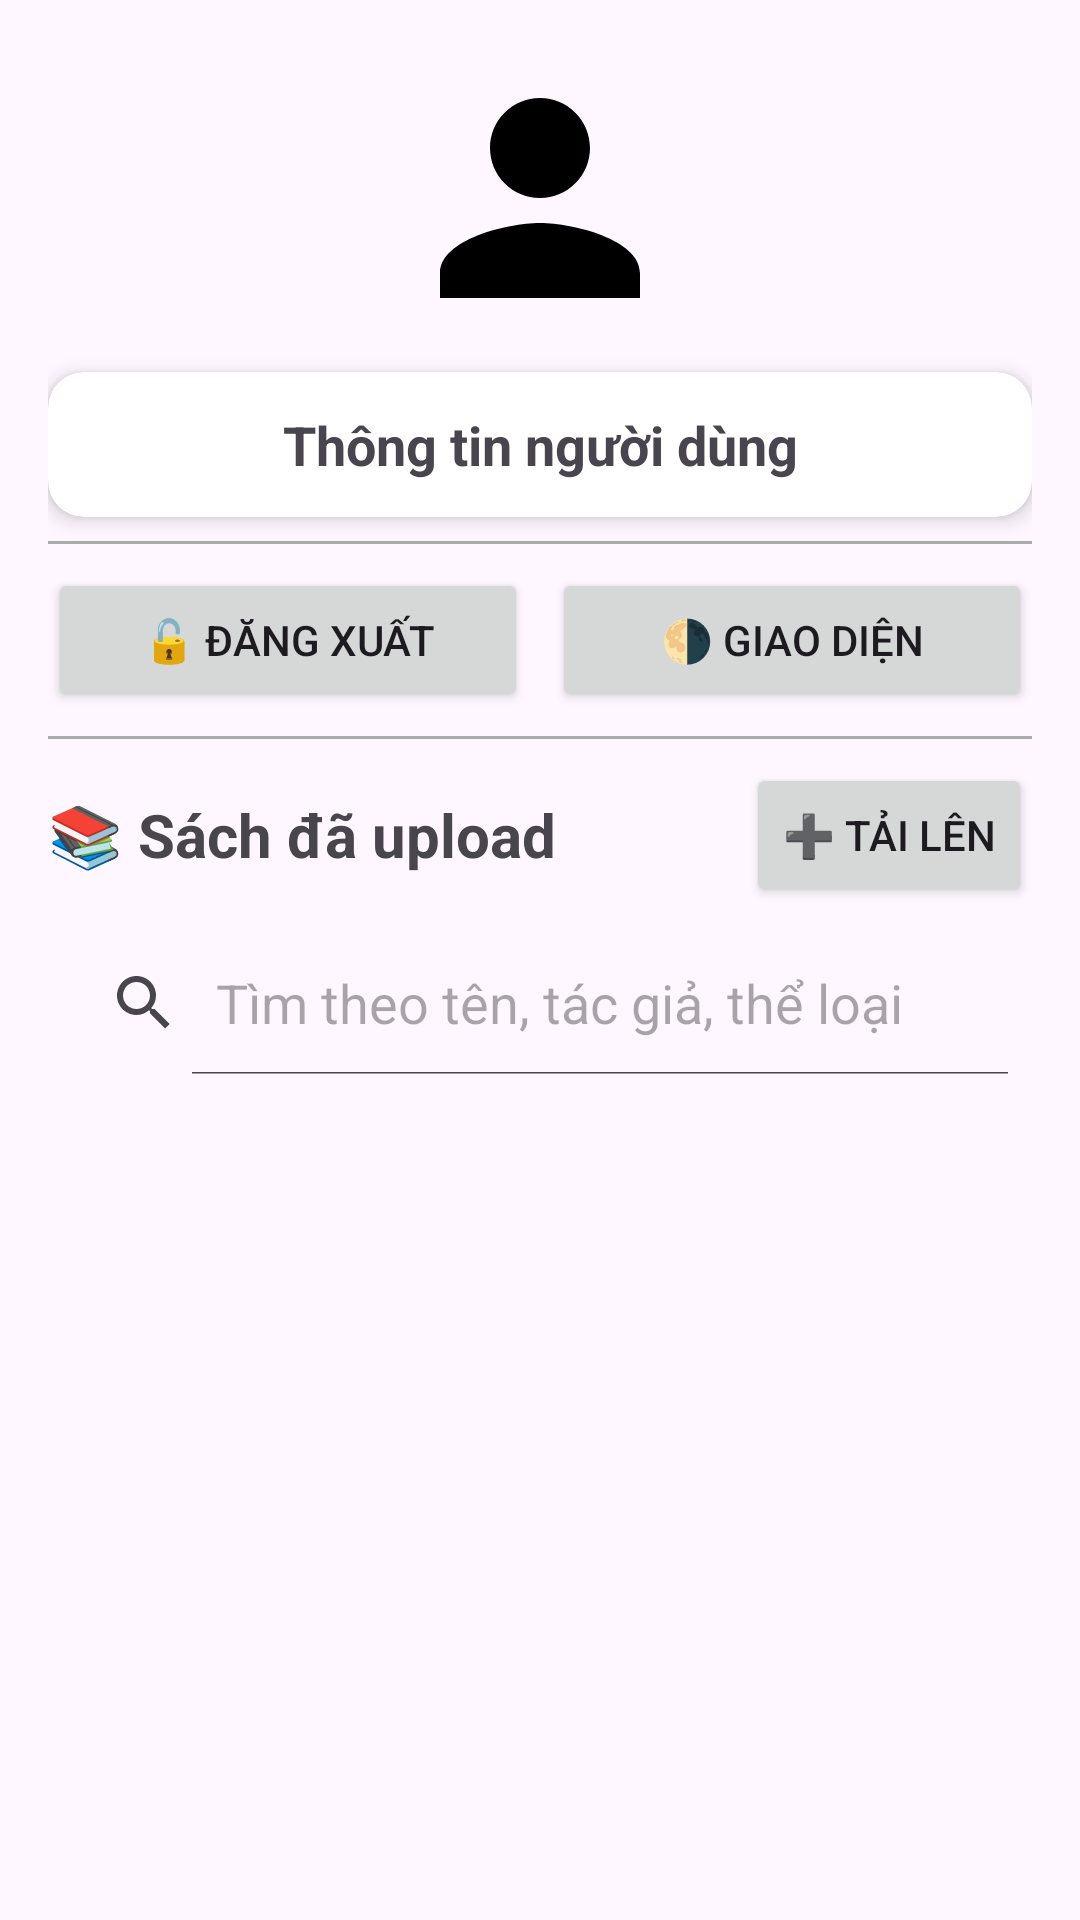

Icons on this 1080*1920 Android screen, each with its box as (x1, y1, x2, y2):
profile: (440, 98, 640, 298)
